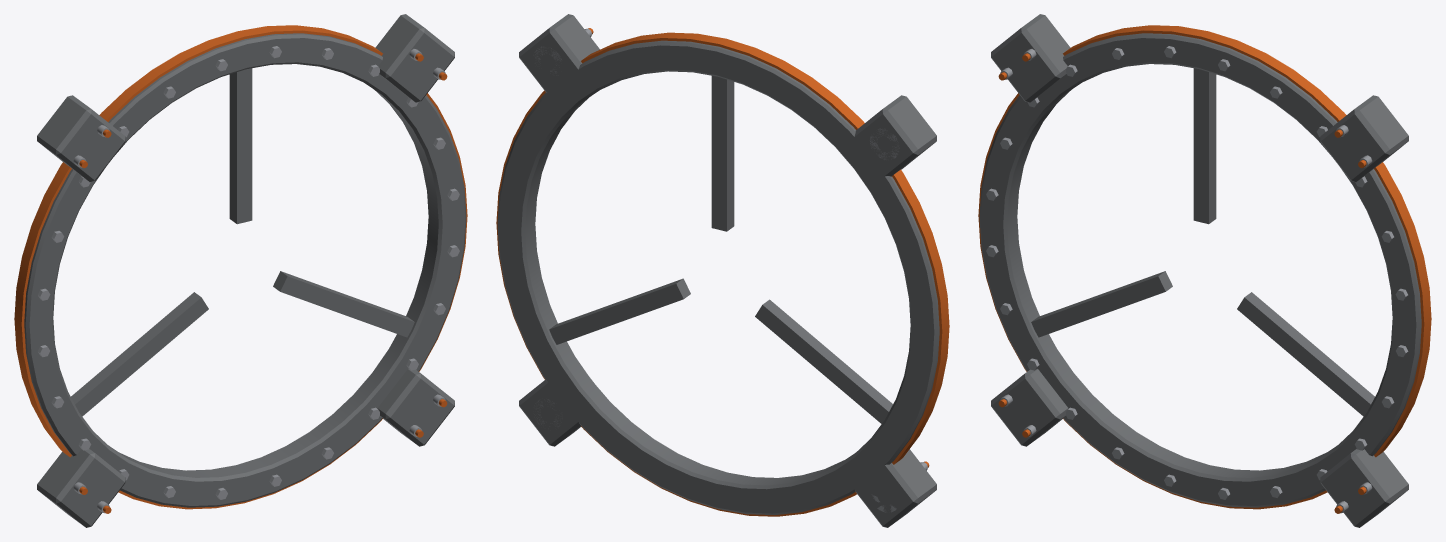
The model's file is u70_flange.obj.
3 views of the same model, side by side, from view 1: azimuth 30°, elevation 25°; view 2: azimuth 150°, elevation 25°; view 3: azimuth 330°, elevation 25° (orthographic).
Visible parts, largest first — view 1: u70_flange; view 2: u70_flange; view 3: u70_flange.
Boxes of the visible parts, x1=… form: u70_flange: x1=14, y1=14, x2=467, y2=527; u70_flange: x1=496, y1=14, x2=949, y2=527; u70_flange: x1=978, y1=14, x2=1431, y2=527.
Bounding box in the file's own units: 3.54 × 3.54 × 0.415.
